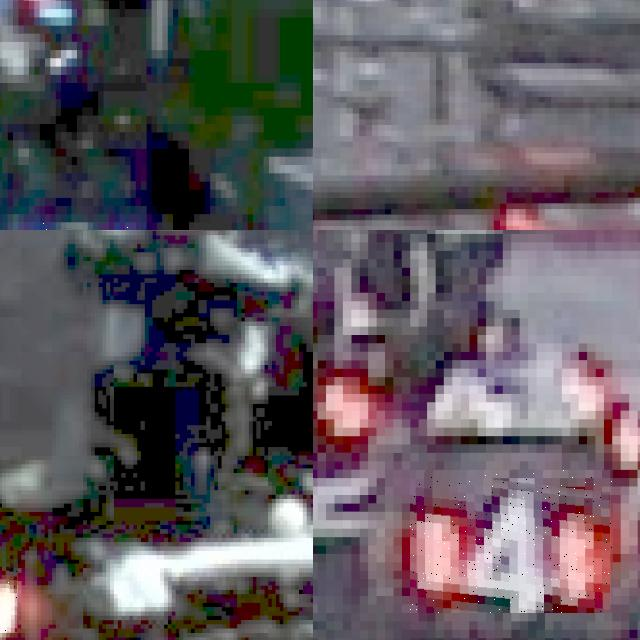R4: (410, 470, 612, 613), (326, 344, 604, 444)
Rs: (0, 551, 17, 633)
